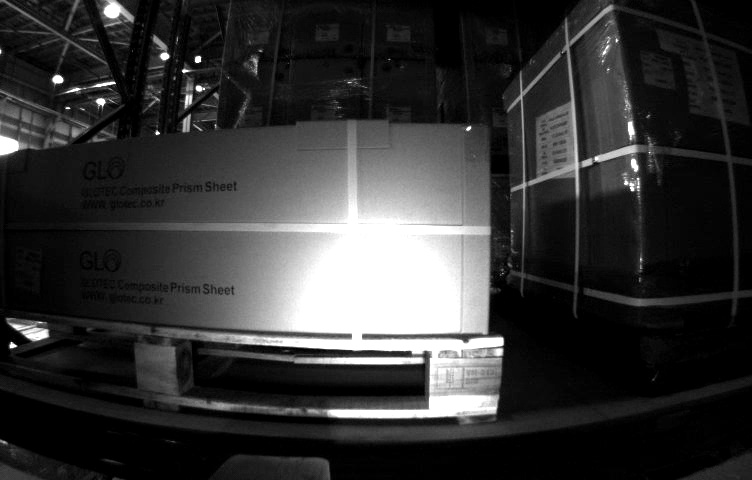True Barcode: (639, 49, 674, 91)
